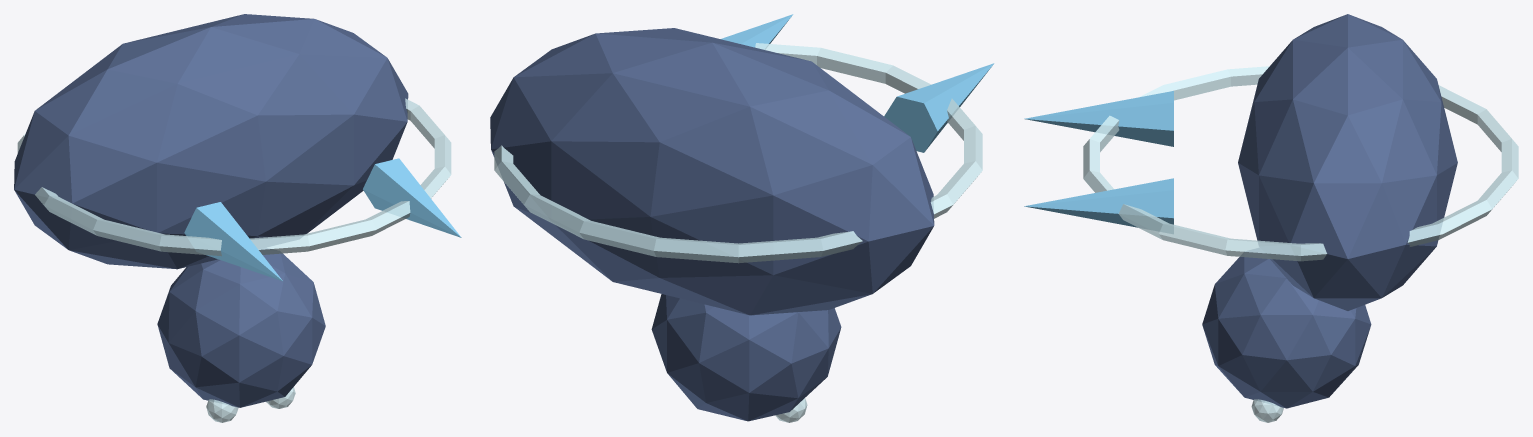
File: 02_monster_random_skin_module.glb
The picture shows the model from 3 angles, left to right: view 1: azimuth 30°, elevation 25°; view 2: azimuth 150°, elevation 25°; view 3: azimuth 270°, elevation 25°; orthographic projection. The views are drawn at different scales.
Visible parts, largest first — view 1: monster_skin_body_proxy, monster_skin_head_proxy, skin_variant_aura, mutation_spike_b, mutation_spike_a, eye_l; view 2: monster_skin_body_proxy, monster_skin_head_proxy, skin_variant_aura, mutation_spike_a, mutation_spike_b; view 3: monster_skin_body_proxy, monster_skin_head_proxy, skin_variant_aura, mutation_spike_a, mutation_spike_b, eye_r.
Part boxes in pixels (bbox=[...]): monster_skin_body_proxy: bbox=[14, 14, 408, 269]; monster_skin_head_proxy: bbox=[157, 248, 325, 407]; skin_variant_aura: bbox=[17, 98, 451, 256]; mutation_spike_b: bbox=[363, 158, 461, 237]; mutation_spike_a: bbox=[184, 202, 282, 281]; eye_l: bbox=[206, 399, 238, 422]; monster_skin_body_proxy: bbox=[490, 28, 934, 315]; monster_skin_head_proxy: bbox=[651, 294, 841, 421]; skin_variant_aura: bbox=[494, 43, 982, 263]; mutation_spike_a: bbox=[884, 63, 994, 152]; mutation_spike_b: bbox=[720, 14, 793, 49]; monster_skin_body_proxy: bbox=[1238, 14, 1457, 310]; monster_skin_head_proxy: bbox=[1202, 248, 1371, 408]; skin_variant_aura: bbox=[1083, 66, 1518, 261]; mutation_spike_a: bbox=[1024, 91, 1173, 146]; mutation_spike_b: bbox=[1024, 178, 1173, 233]; eye_r: bbox=[1251, 399, 1283, 422].
Size of the model in its own units: 0.972 by 0.845 by 1.05.
